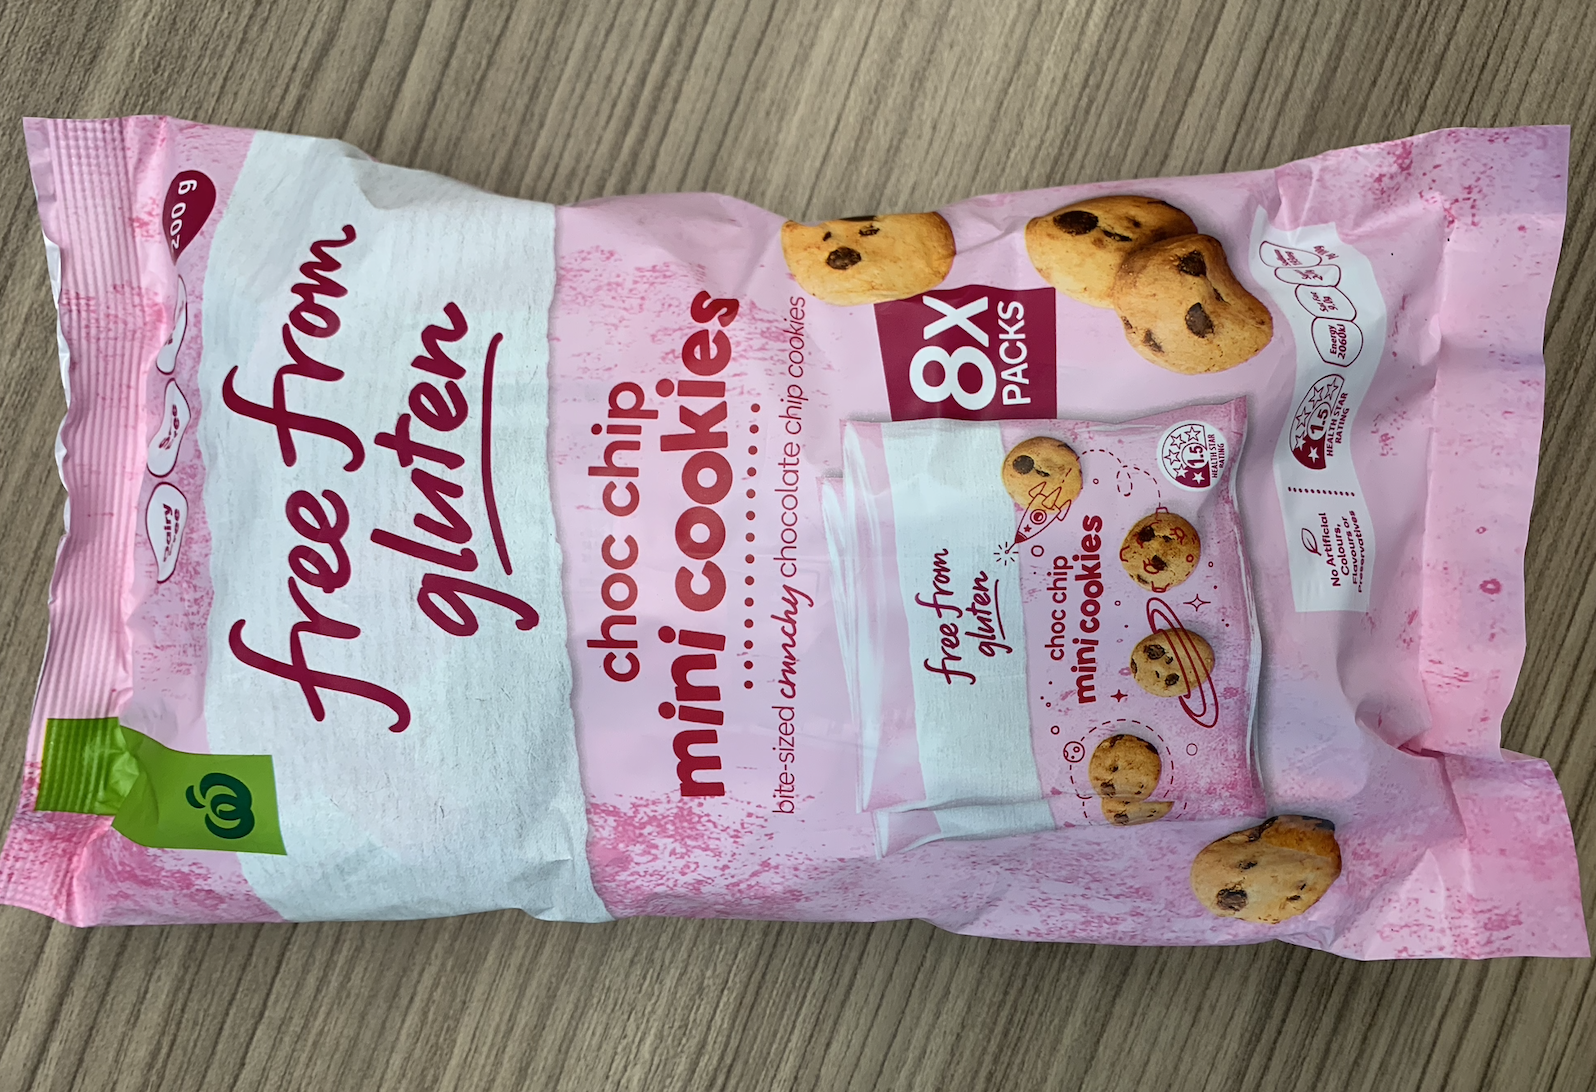cookies_150g: (95, 216, 1432, 900)
